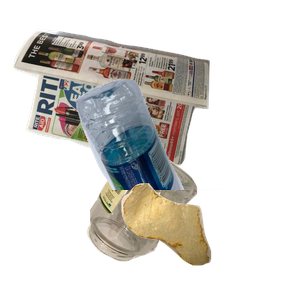glass: (85, 141, 275, 300)
paper: (11, 27, 213, 185)
plastic: (73, 76, 300, 256)
trash: (119, 181, 300, 300)
